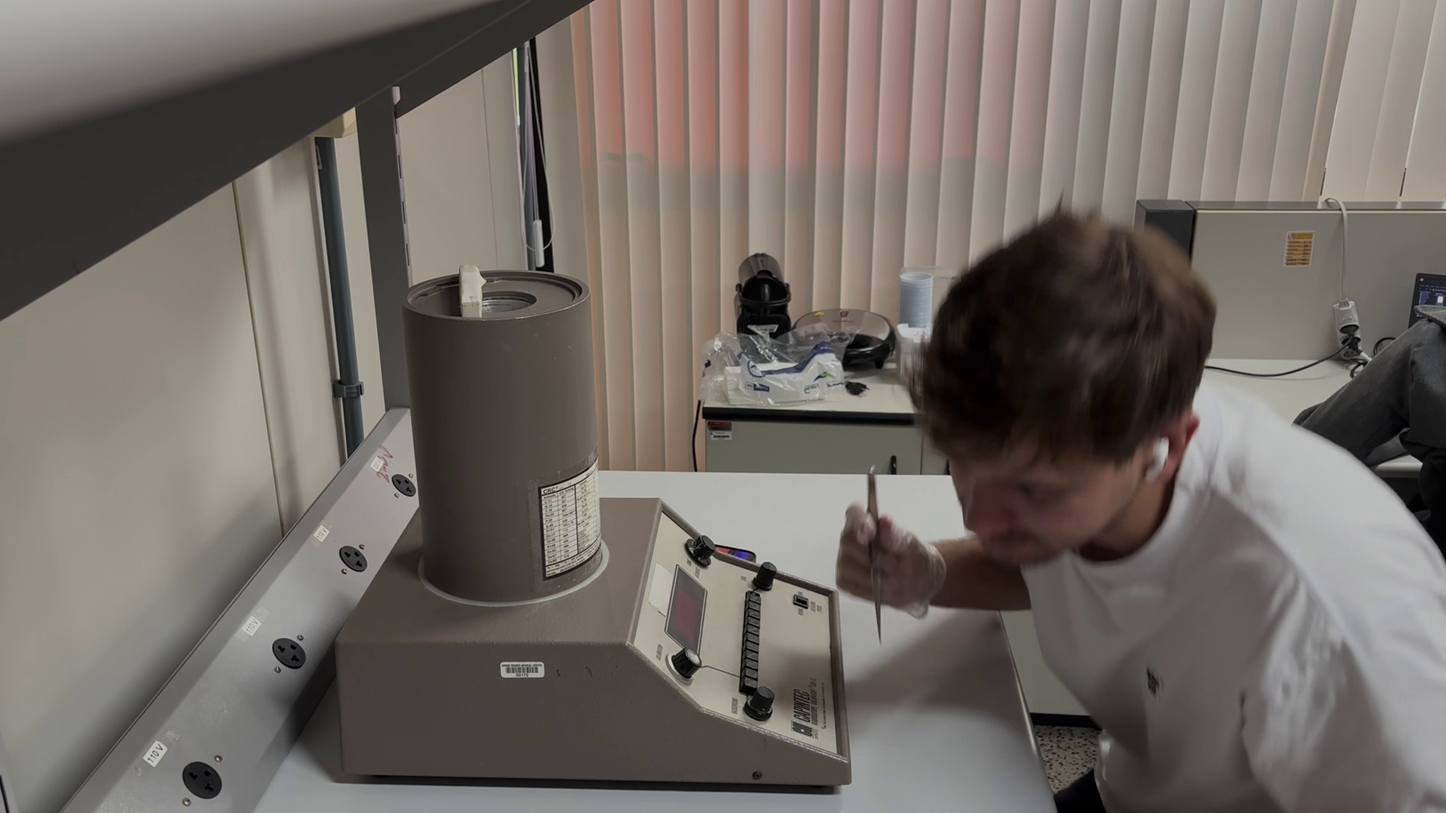Ativimetro: (398, 267, 609, 606)
Com_Luva: (835, 501, 945, 623)
